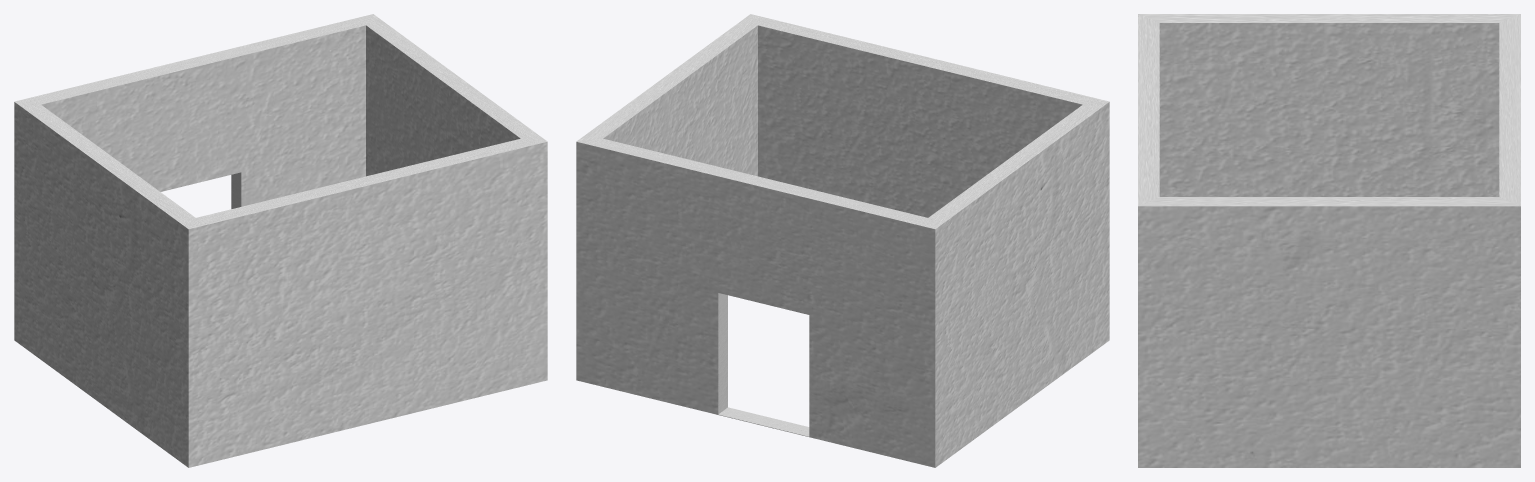
The model's file is room_01.fbx.
The picture shows the model from 3 angles, left to right: view 1: azimuth 30°, elevation 25°; view 2: azimuth 150°, elevation 25°; view 3: azimuth 270°, elevation 25°; orthographic projection. The views are drawn at different scales.
Parts seen in each view (by area): view 1: Sweep; view 2: Sweep, Würfel; view 3: Sweep.
Boxes of the visible parts, x1,y1,x2,y2 form: Sweep: (14,14,547,467); Sweep: (576,14,1109,467); Würfel: (718,293,809,436); Sweep: (1138,14,1520,467).
Bounding box in the file's own units: 315 × 200 × 265.
1 material, 1 textured.
